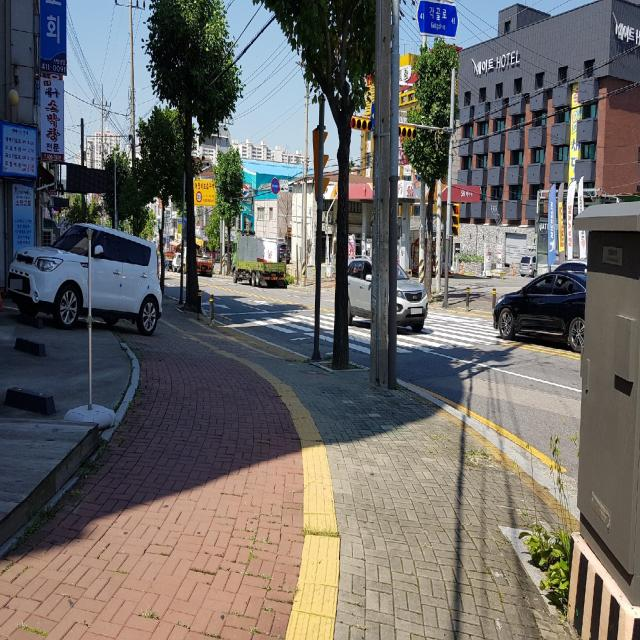횡단보도: (243, 310, 537, 357)
